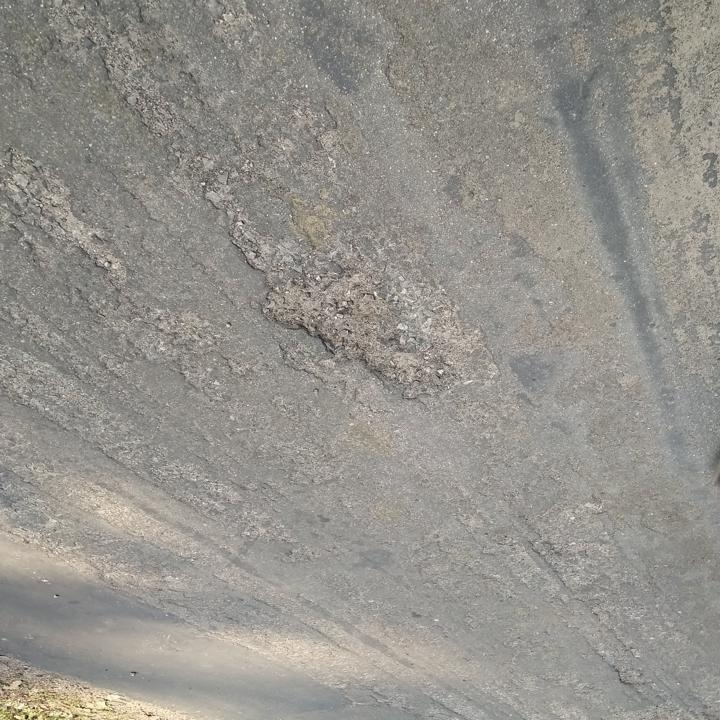pothole: (254, 265, 430, 388)
